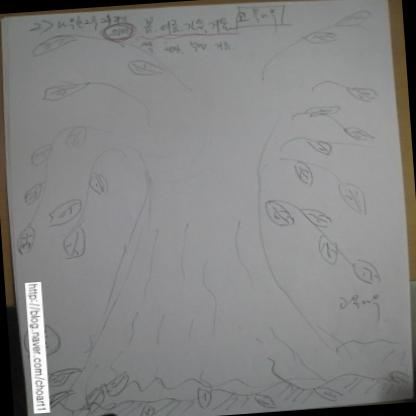root_none: (54, 291, 351, 416)
trunk_bark: (96, 211, 304, 332)
